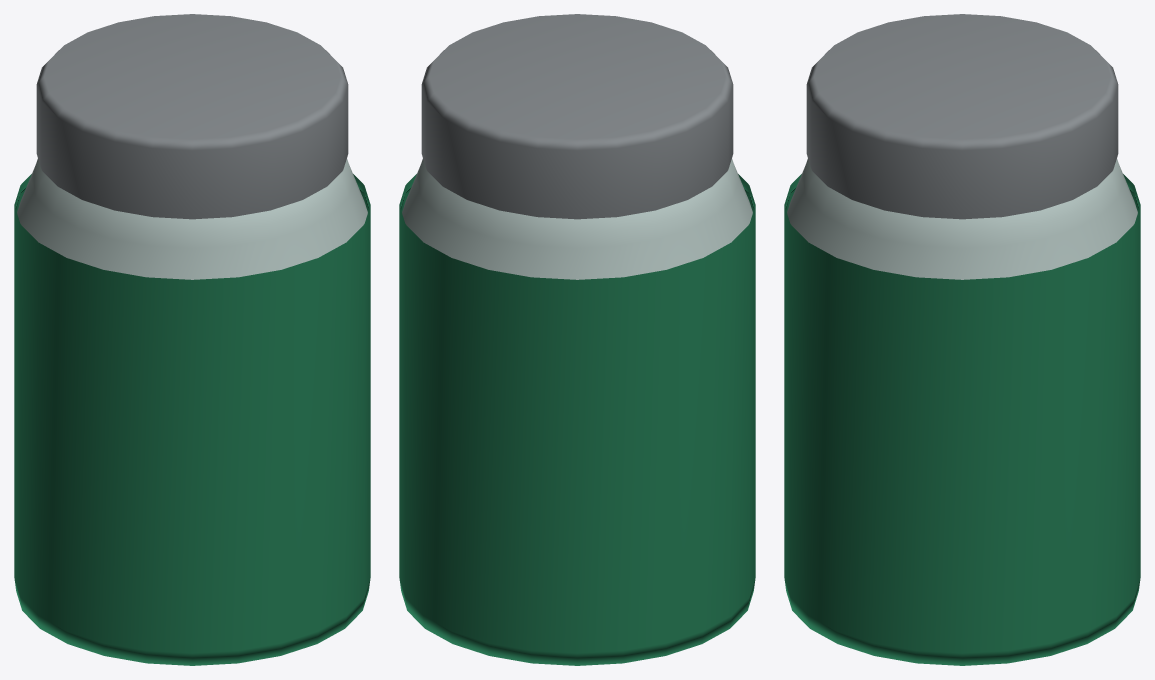
The picture shows the model from 3 angles, left to right: view 1: azimuth 30°, elevation 25°; view 2: azimuth 150°, elevation 25°; view 3: azimuth 270°, elevation 25°; orthographic projection.
Visible parts, largest first — view 1: far; view 2: far; view 3: far.
Boxes of the visible parts, x1,y1,x2,y2 form: far: (14, 14, 370, 665); far: (399, 14, 755, 665); far: (784, 14, 1140, 665).
Bounding box in the file's own units: 11.85 × 18.98 × 11.85.
